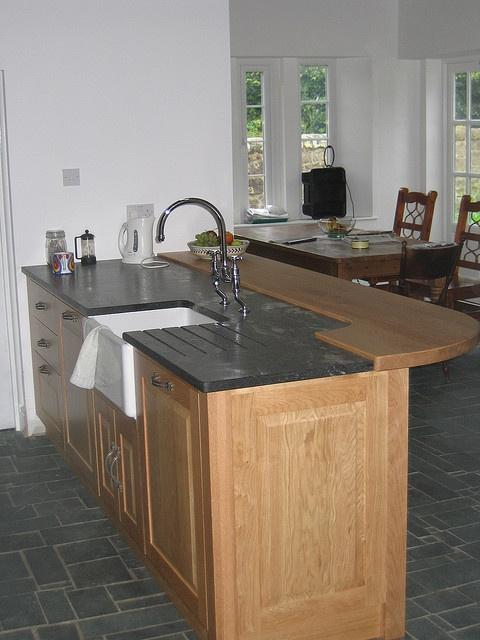Meja: (231, 219, 455, 280)
